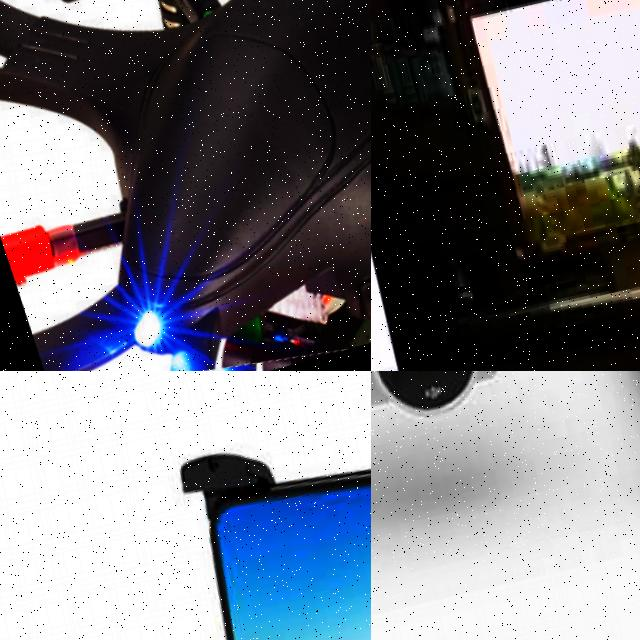drone: (0, 0, 371, 371)
